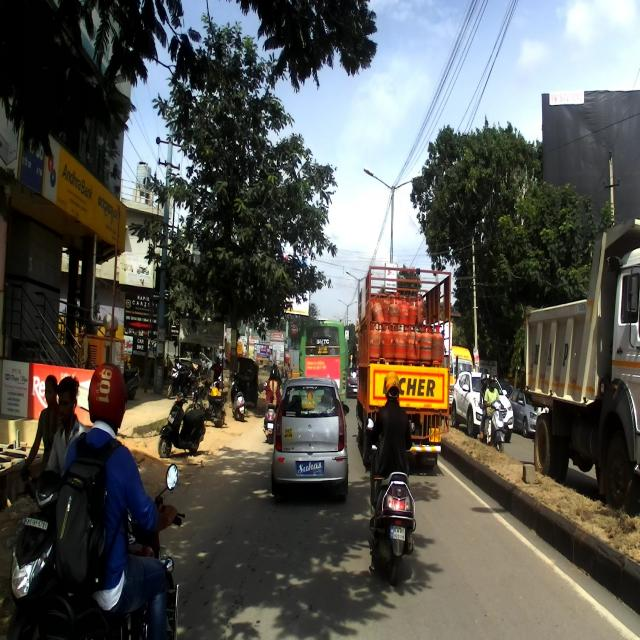car: (271, 375, 350, 503)
motorcycle: (49, 462, 186, 637), (190, 381, 229, 428)
scooter: (6, 472, 62, 639), (365, 415, 417, 578), (157, 385, 206, 458), (479, 398, 507, 458)
truck: (520, 216, 639, 514), (357, 260, 451, 479)
